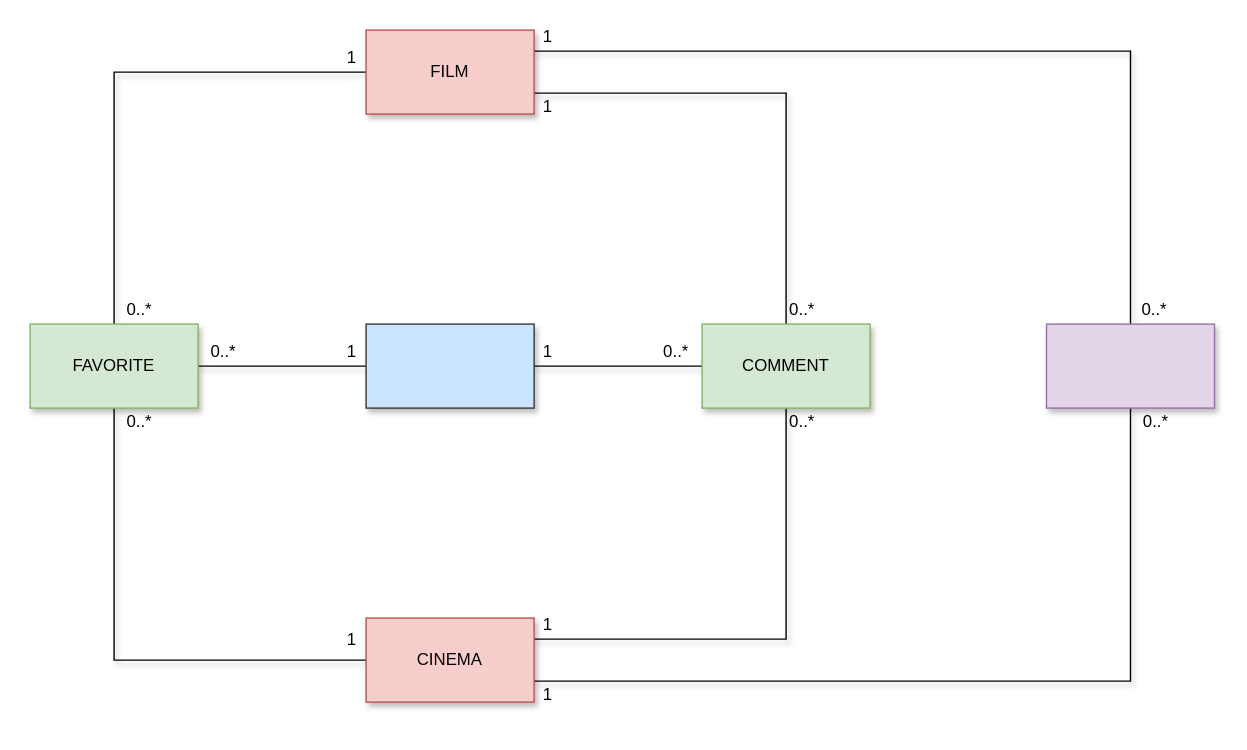
Some shapes in this 1247 by 750 pixel diagram are drawn without their labels. The shapes that lost their labels are listed below. From the top down, each one's centre as x and y in pixels, then its label:
(x=450, y=367): USER
(x=1131, y=367): PROJECTION
